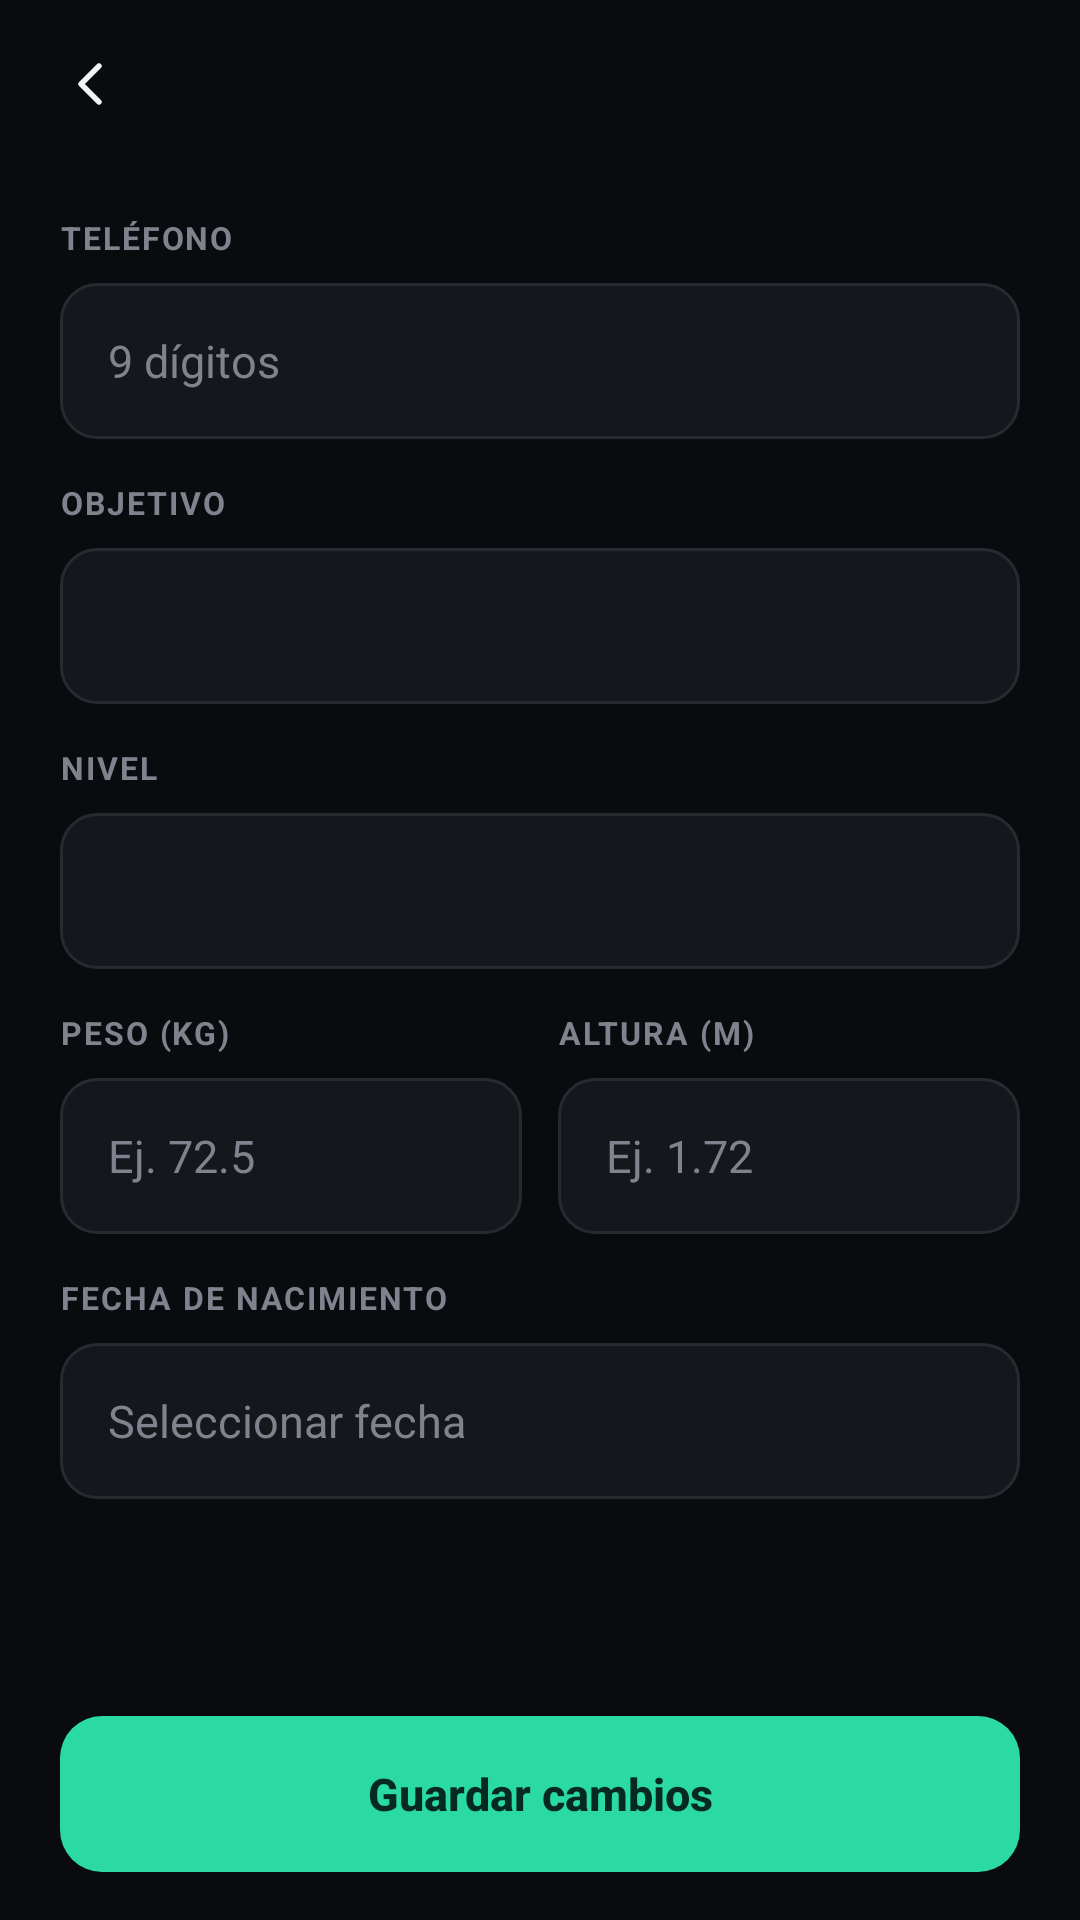

Icons on this 1080x1920 Android screen, each with the point to tap as [x,y]:
Atrás: [90,84]
